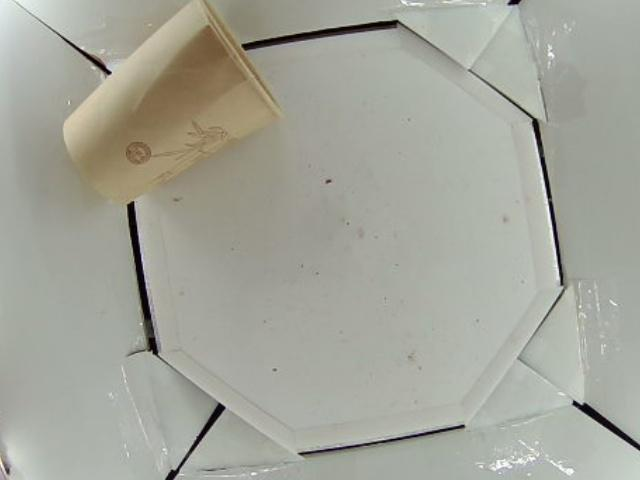Cup: (63, 1, 279, 208)
